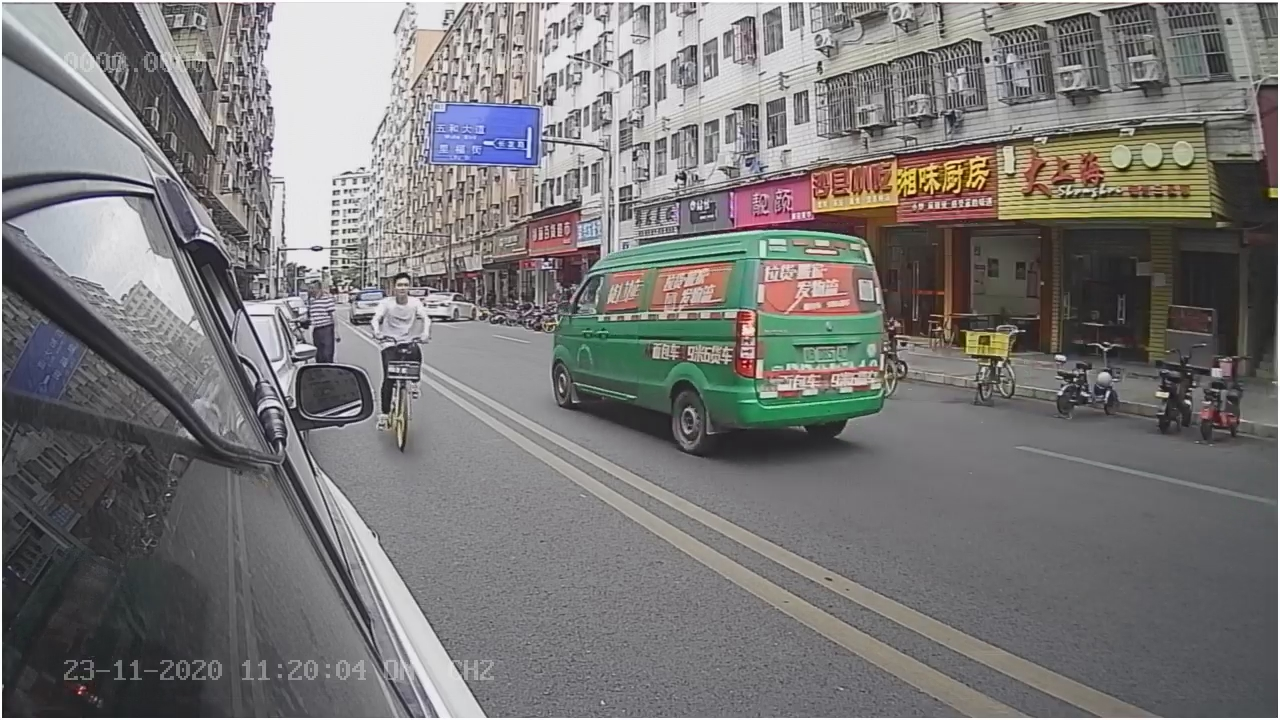person: (360, 273, 436, 346)
